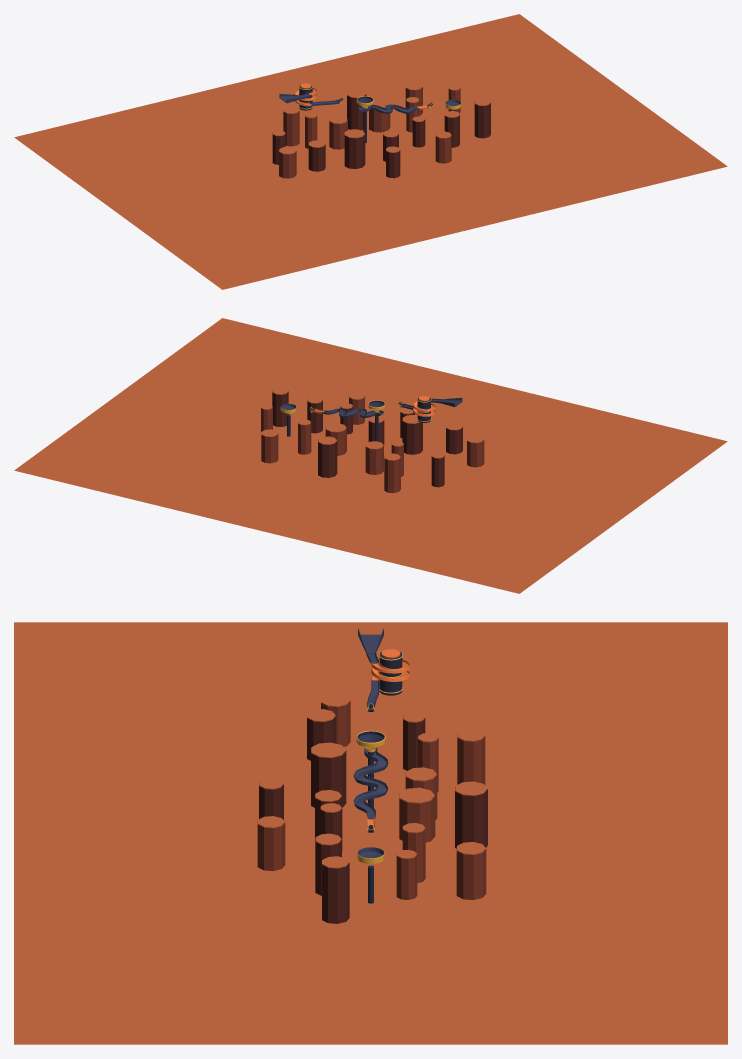
File: canyon.glb
3 renders of one model, top to bottom at view 1: azimuth 30°, elevation 25°; view 2: azimuth 150°, elevation 25°; view 3: azimuth 270°, elevation 25°, orthographic. The views are drawn at different scales.
Parts seen in each view (by area): view 1: D_ground, D_mesa4, D_mesa12, D_mesa13, D_mesa14, D_mesa5; view 2: D_ground, D_mesa14, D_mesa4, D_mesa13, D_mesa5, D_mesa15, D_mesa12; view 3: D_ground, D_mesa14, D_mesa12, D_mesa4, D_mesa15, D_mesa17, D_mesa13, R_T04_serp, D_mesa7, D_mesa11, D_mesa0, D_mesa2 (+3 smaller).
Boxes of the visible parts, left/top/right/bottom form: D_ground: left=14, top=14, right=727, bottom=289; D_mesa4: left=344, top=134, right=365, bottom=168; D_mesa12: left=474, top=101, right=490, bottom=138; D_mesa13: left=283, top=111, right=299, bottom=146; D_mesa14: left=347, top=94, right=366, bottom=130; D_mesa5: left=329, top=119, right=347, bottom=149; D_ground: left=14, top=318, right=727, bottom=593; D_mesa14: left=318, top=439, right=337, bottom=477; D_mesa4: left=402, top=418, right=422, bottom=454; D_mesa13: left=384, top=456, right=400, bottom=493; D_mesa5: left=365, top=445, right=383, bottom=474; D_mesa15: left=261, top=434, right=278, bottom=463; D_mesa12: left=272, top=390, right=288, bottom=426; D_ground: left=14, top=622, right=727, bottom=1044; D_mesa14: left=455, top=787, right=487, bottom=848; D_mesa12: left=322, top=863, right=349, bottom=923; D_mesa4: left=311, top=748, right=346, bottom=807; D_mesa15: left=456, top=847, right=486, bottom=899; D_mesa17: left=257, top=820, right=285, bottom=870; D_mesa13: left=457, top=734, right=485, bottom=785; R_T04_serp: left=353, top=747, right=388, bottom=819; D_mesa7: left=399, top=793, right=435, bottom=842; D_mesa11: left=396, top=853, right=417, bottom=899; D_mesa0: left=403, top=716, right=425, bottom=770; D_mesa2: left=307, top=716, right=335, bottom=760.
Size of the model in its own units: 700 by 120 by 500.
